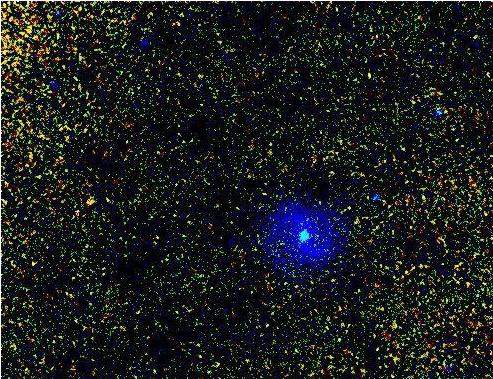star: (75, 187, 105, 217)
